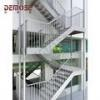stairs: (36, 66, 77, 100)
